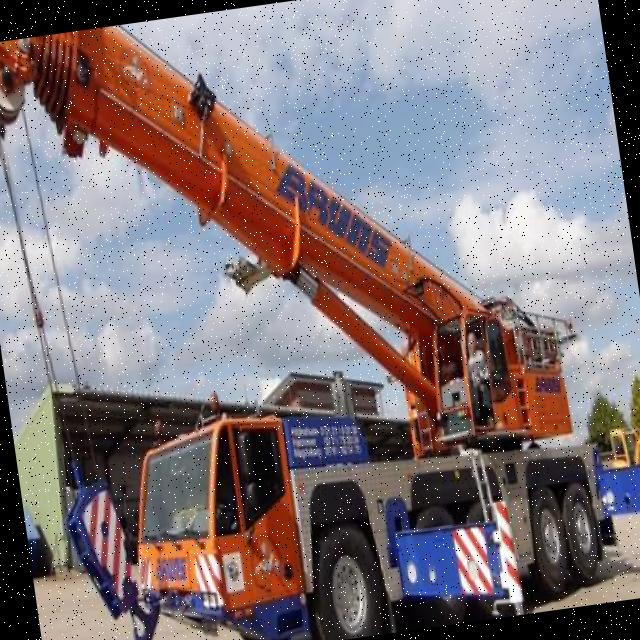Mobile Crane: (0, 0, 623, 640)
